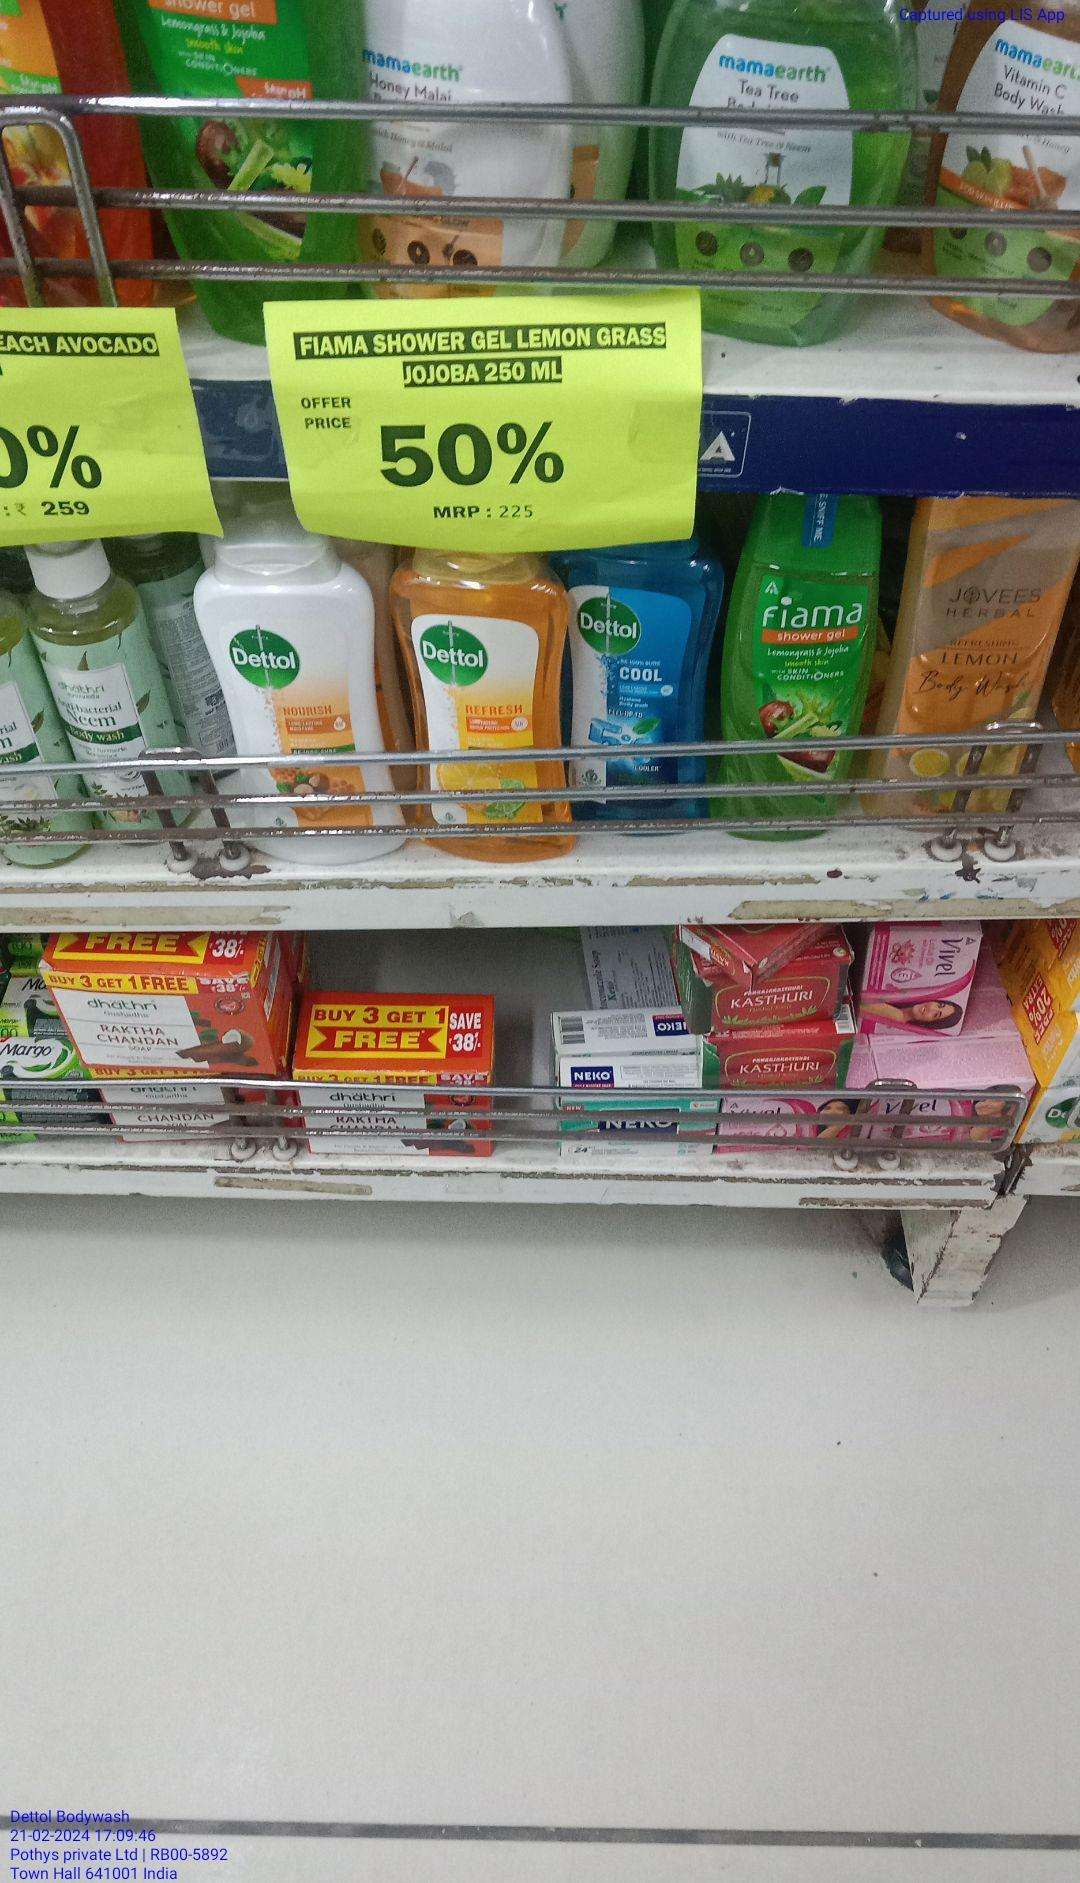Dettol_Bodywash_Cool: (567, 535, 722, 839)
Dettol_Bodywash_Refresh: (397, 551, 573, 866)
Dettol_Nourish_Body_Wash_250ML: (190, 533, 401, 874)
Fiama_Shower_Gel_Lemongrass_and_Jojoba_250ML: (723, 490, 880, 837)
